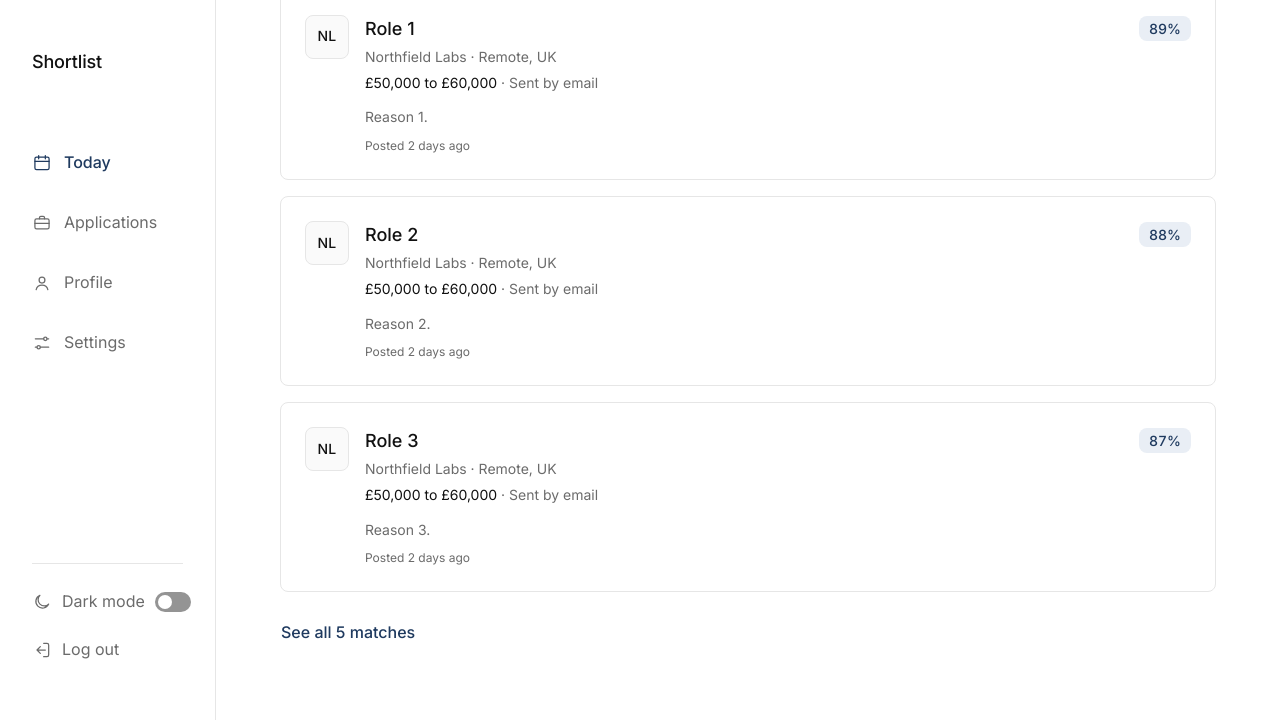
Scenario: Today › lists matches with score and reason, four at first
This screenshot has width=1280, height=720.
(page scrolled)
Click the button "See all 5 matches".
click(348, 632)  # box [268, 608, 428, 656]
(page scrolled)
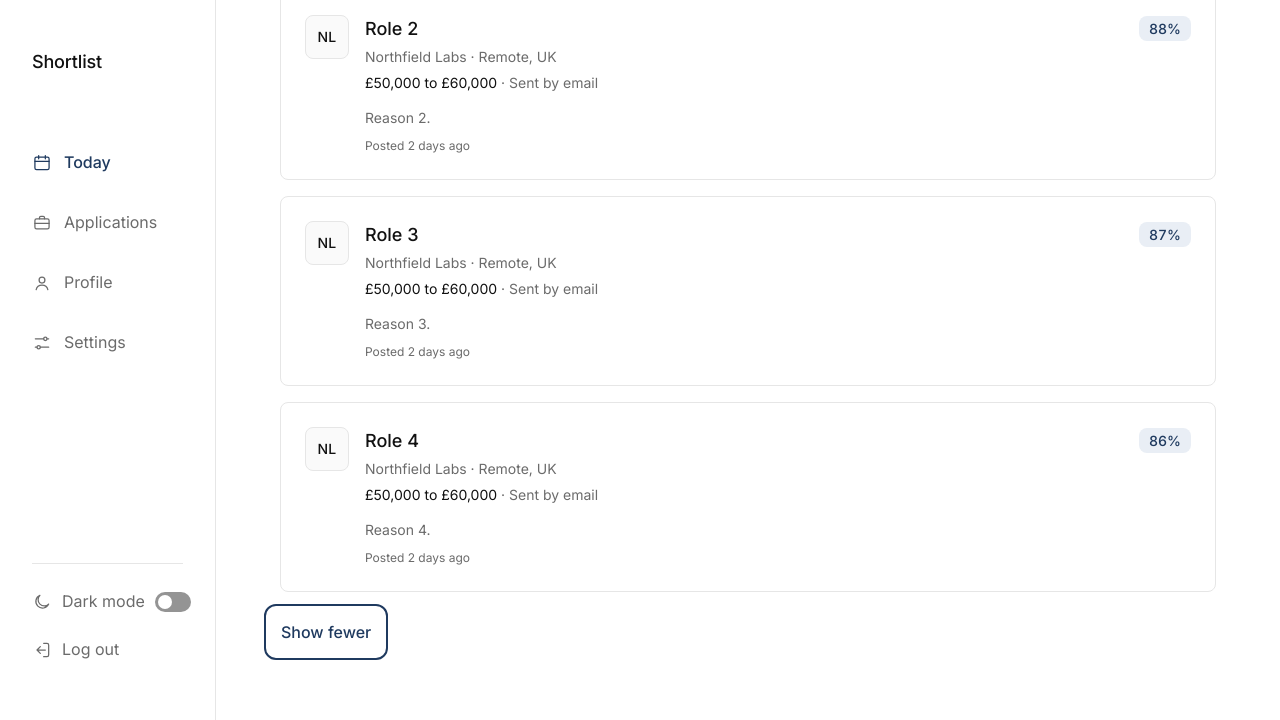
Expected: the button "Show fewer" is expanded, [268, 608, 384, 656]
